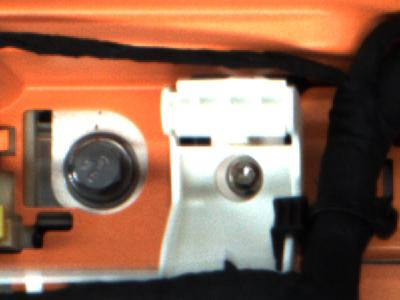nut_b: (60, 129, 148, 215)
